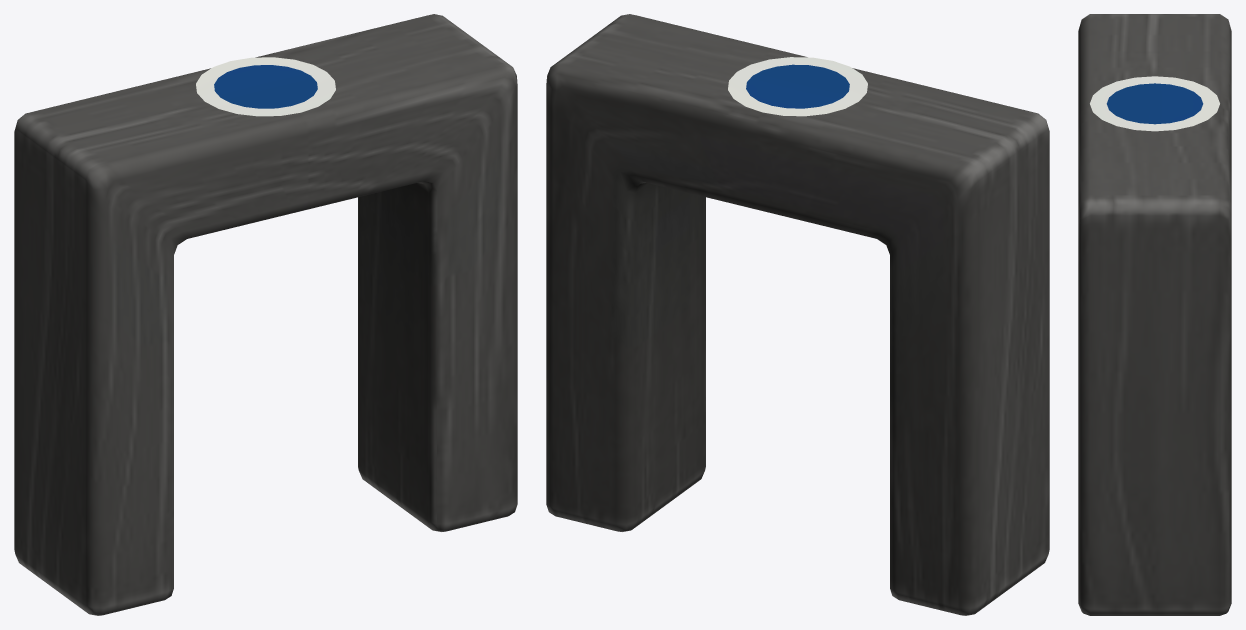
3 views of the same model, side by side, from view 1: azimuth 30°, elevation 25°; view 2: azimuth 150°, elevation 25°; view 3: azimuth 270°, elevation 25° (orthographic). The views are drawn at different scales.
Visible parts, largest first — view 1: shape1_1, top_cycle; view 2: shape1_1, top_cycle; view 3: shape1_1, top_cycle.
Boxes of the visible parts, x1,y1,x2,y2 form: shape1_1: (14, 14, 517, 615); top_cycle: (196, 57, 335, 116); shape1_1: (546, 14, 1049, 615); top_cycle: (728, 57, 867, 116); shape1_1: (1078, 14, 1231, 615); top_cycle: (1090, 76, 1219, 131).
Bounding box in the file's own units: 15 × 15.09 × 5.
